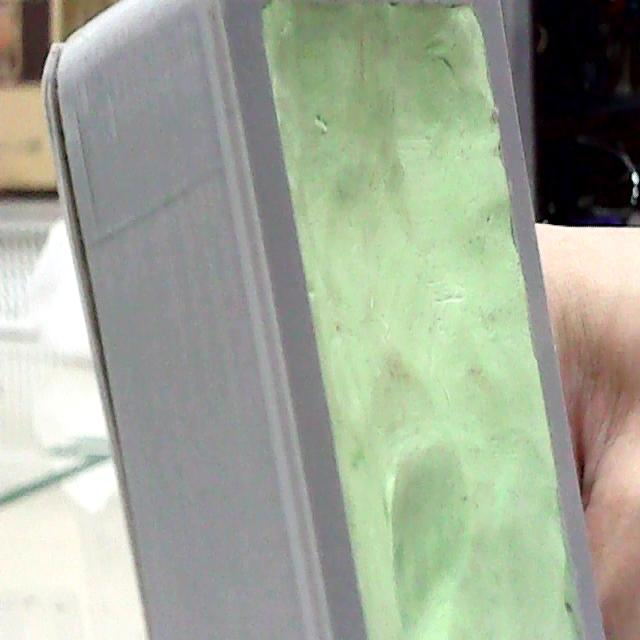block: (51, 0, 617, 639)
